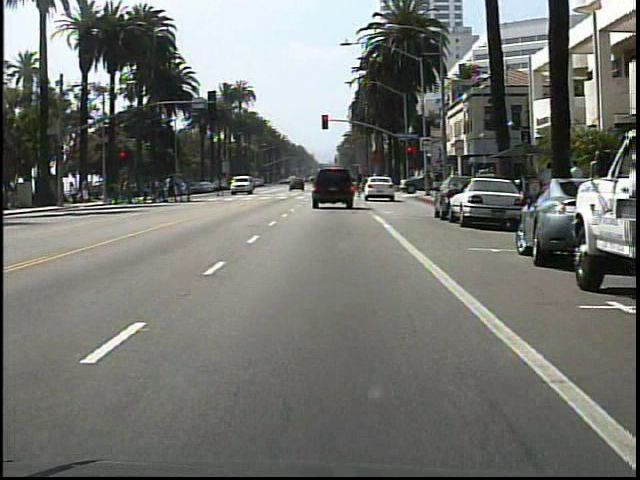person: (539, 156, 560, 217), (565, 155, 584, 212), (211, 172, 230, 201)
